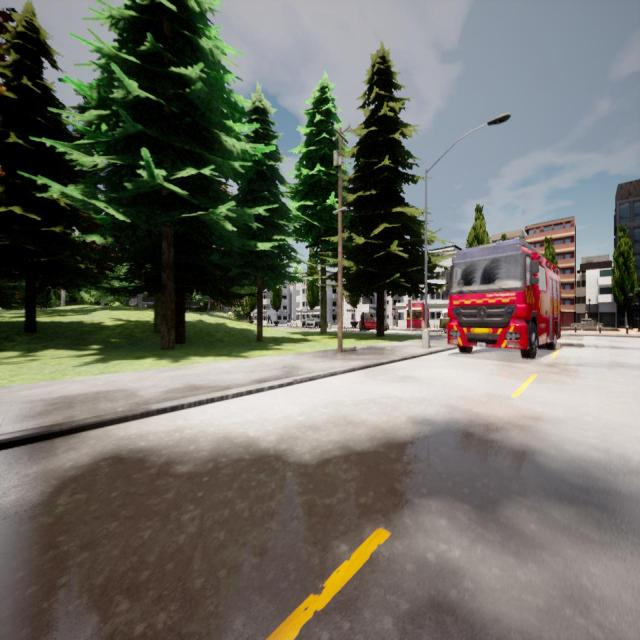Pedestrian: (360, 311, 364, 332)
Traffic_Signs: (392, 309, 395, 315)
Vehicle: (448, 240, 560, 358), (359, 313, 388, 331), (440, 308, 449, 329), (302, 318, 320, 328)
traffic_light: (407, 299, 411, 310)
